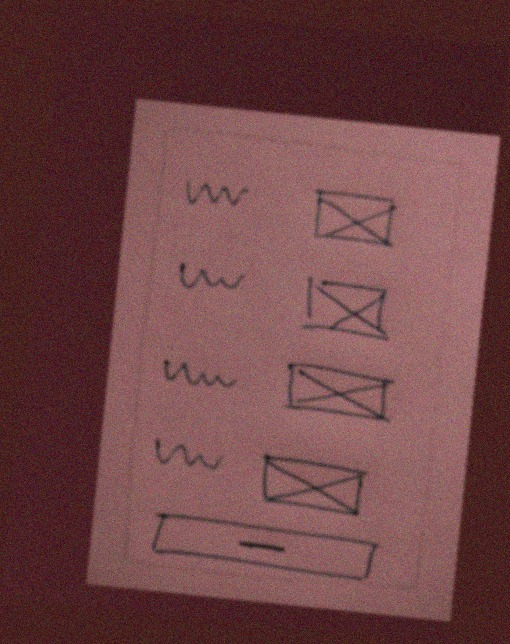button: (143, 504, 383, 592)
image: (250, 445, 377, 527), (274, 357, 400, 432), (292, 269, 398, 352), (303, 181, 407, 254)
text: (154, 353, 248, 400), (148, 431, 231, 484), (167, 254, 255, 303), (178, 172, 255, 215)
